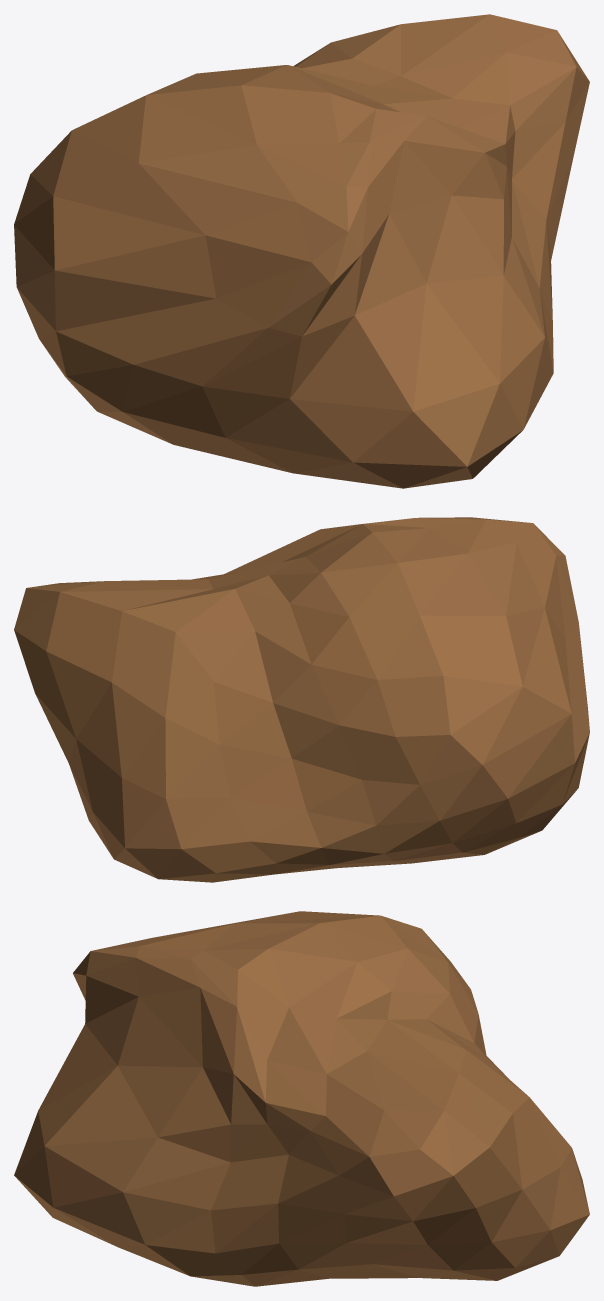
File: stone04.fbx
The picture shows the model from 3 angles, top to bottom: view 1: azimuth 30°, elevation 25°; view 2: azimuth 150°, elevation 25°; view 3: azimuth 270°, elevation 25°; orthographic projection. The views are drawn at different scales.
Parts seen in each view (by area): view 1: Icosphere; view 2: Icosphere; view 3: Icosphere.
Part boxes in pixels (<box>): Icosphere: <box>14,14,589,488</box>; Icosphere: <box>14,517,589,882</box>; Icosphere: <box>14,911,589,1286</box>.
Bounding box in the file's own units: 2.12 × 1.1 × 2.07.
